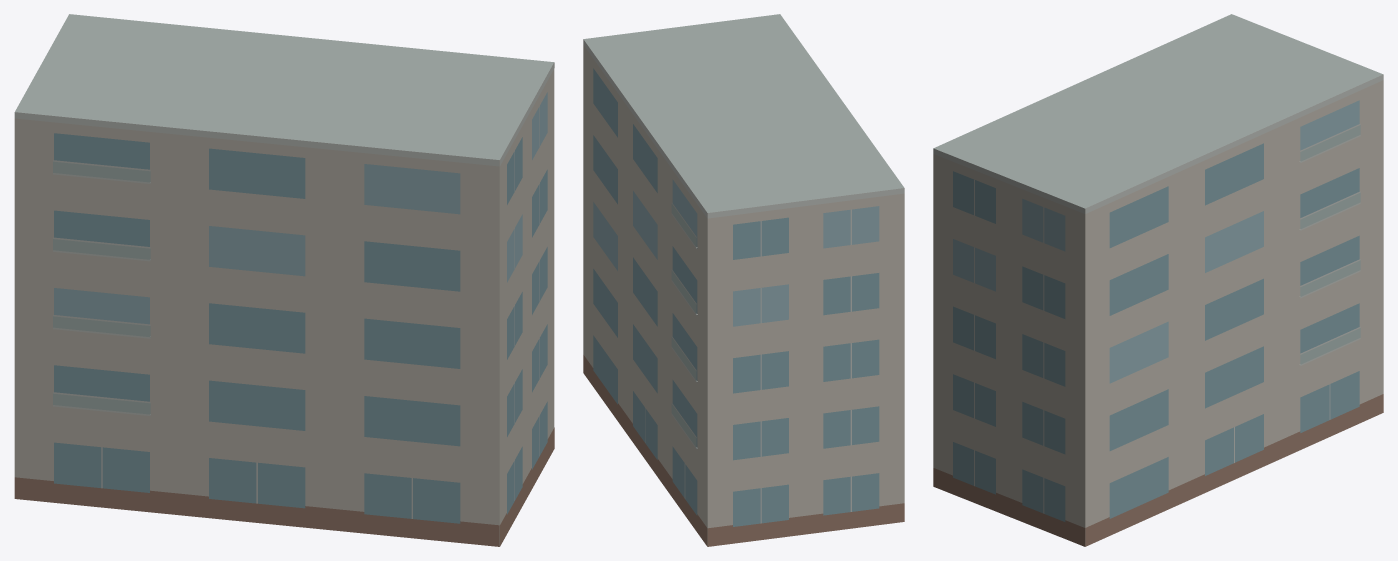
Rendered from survey-upis-32930686.glb.
The picture shows the model from 3 angles, left to right: view 1: azimuth 30°, elevation 25°; view 2: azimuth 150°, elevation 25°; view 3: azimuth 270°, elevation 25°; orthographic projection. The views are drawn at different scales.
Visible parts, largest first — view 1: survey-upis-32930686.tmp; view 2: survey-upis-32930686.tmp; view 3: survey-upis-32930686.tmp.
Part boxes in pixels (x1=…): survey-upis-32930686.tmp: x1=14, y1=14, x2=554, y2=546; survey-upis-32930686.tmp: x1=583, y1=14, x2=904, y2=546; survey-upis-32930686.tmp: x1=933, y1=14, x2=1383, y2=546.
Size of the model in its own units: 18.27 by 14.8 by 17.86.
